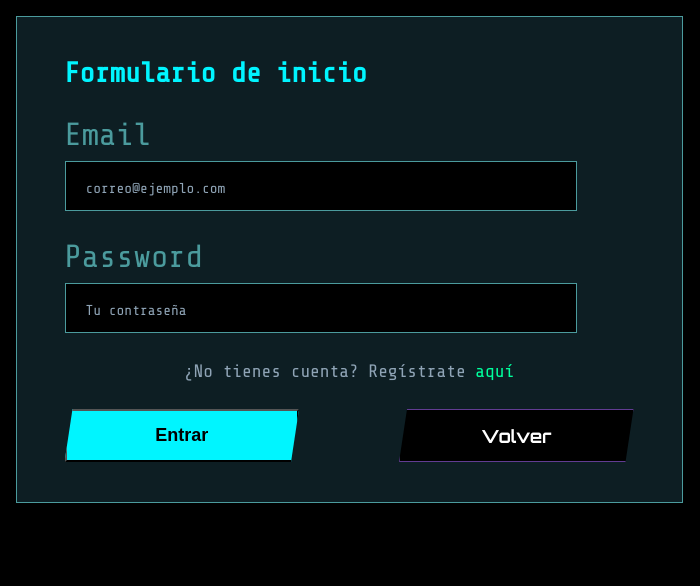
Test: LoginForm › muestra error global para errores distintos de 401/403/404
Type "jennifer@test.com" into the field labelled "Email".
click(321, 186); type("jennifer@test.com")  # box [64,161,577,211]
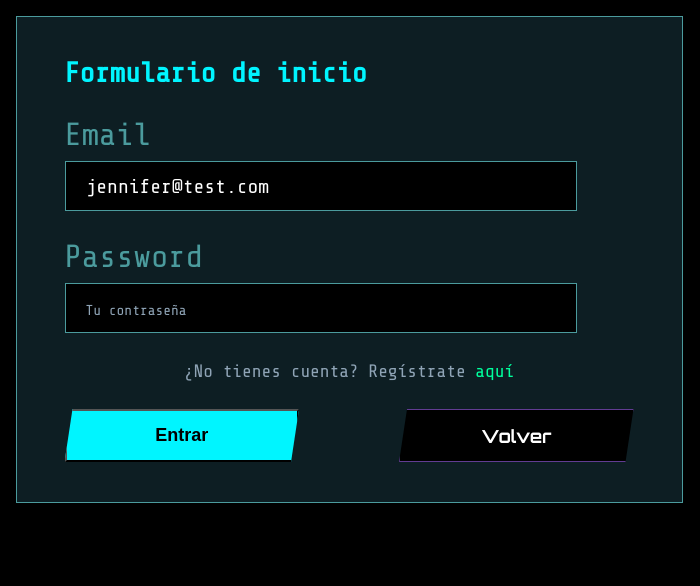
Type "password123" into the password field labelled "Password".
click(321, 308); type("password123")  # box [64,283,577,333]
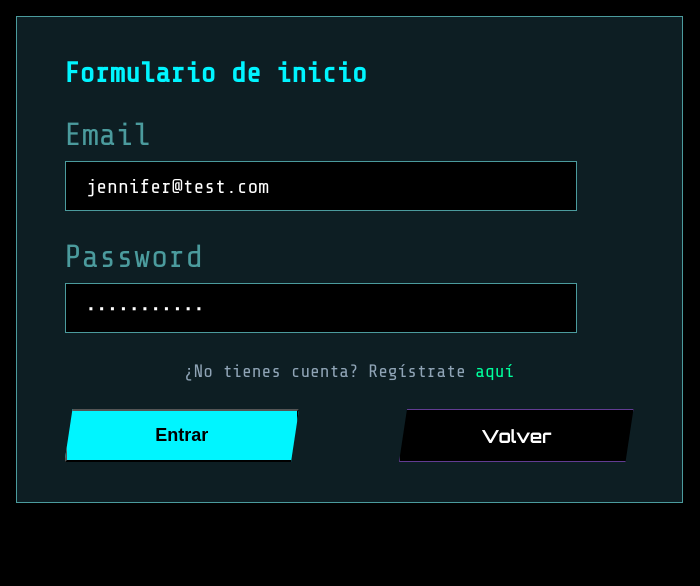
Click the button "Entrar".
click(182, 436)  # box [64,409,299,462]
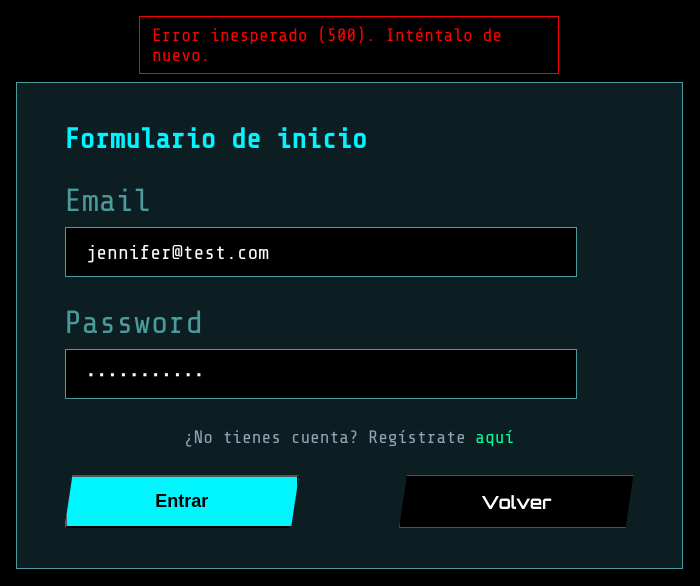
expect the message "Error inesperado (500). Inténtalo de nuevo." is shown: met, box [139,16,559,74]
